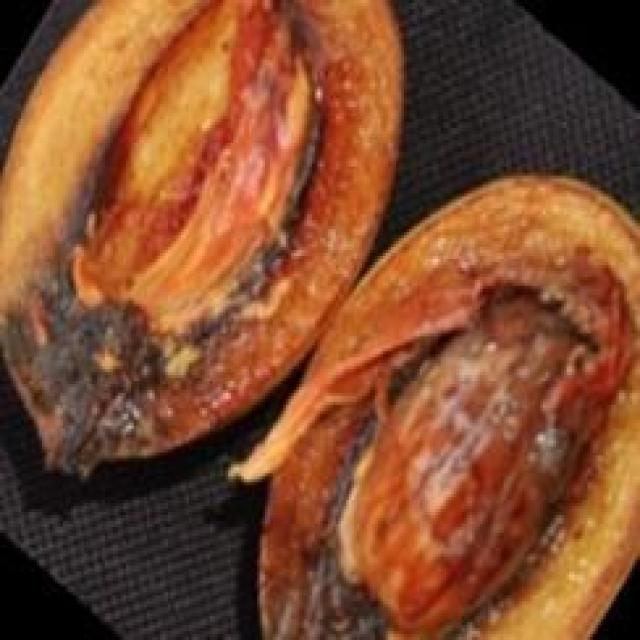damaged: (0, 0, 401, 473), (231, 176, 637, 637)
